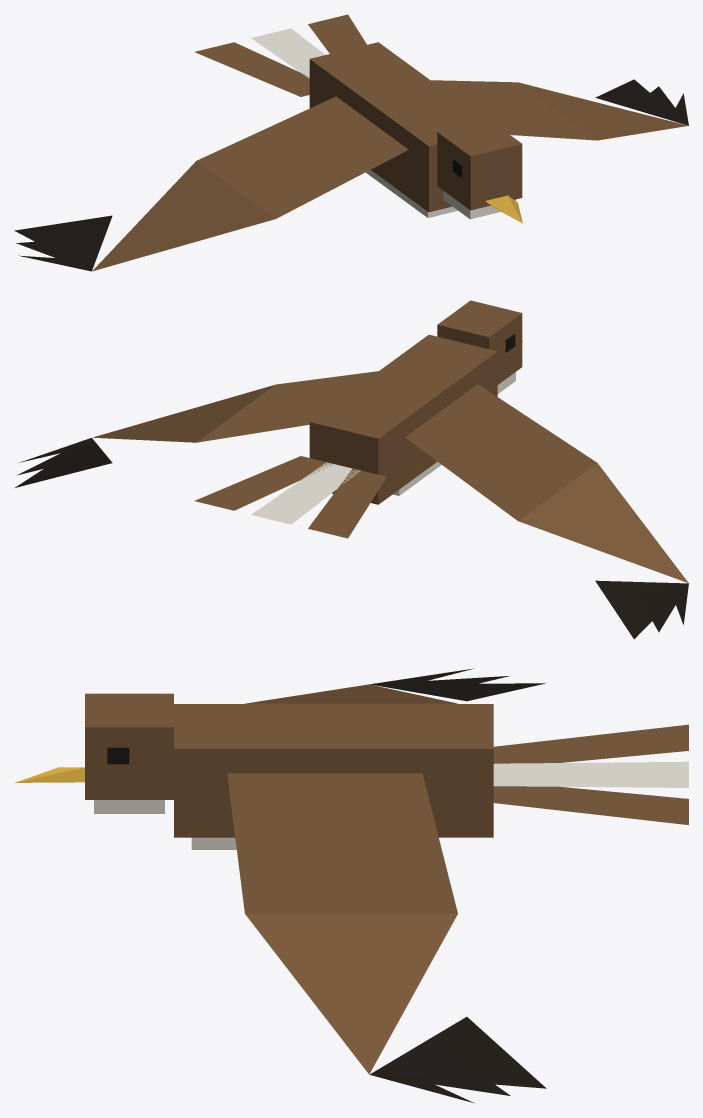
The model's file is hawk_down.glb.
3 renders of one model, top to bottom at view 1: azimuth 30°, elevation 25°; view 2: azimuth 150°, elevation 25°; view 3: azimuth 270°, elevation 25°, orthographic. The views are drawn at different scales.
Parts seen in each view (by area): view 1: hawk_down; view 2: hawk_down; view 3: hawk_down.
Boxes of the visible parts, x1,y1,x2,y2 form: hawk_down: (14,14,688,271); hawk_down: (15,300,688,639); hawk_down: (14,668,688,1103).
Size of the model in its own units: 1.16 by 0.218 by 0.76.
1 material, 1 textured.
